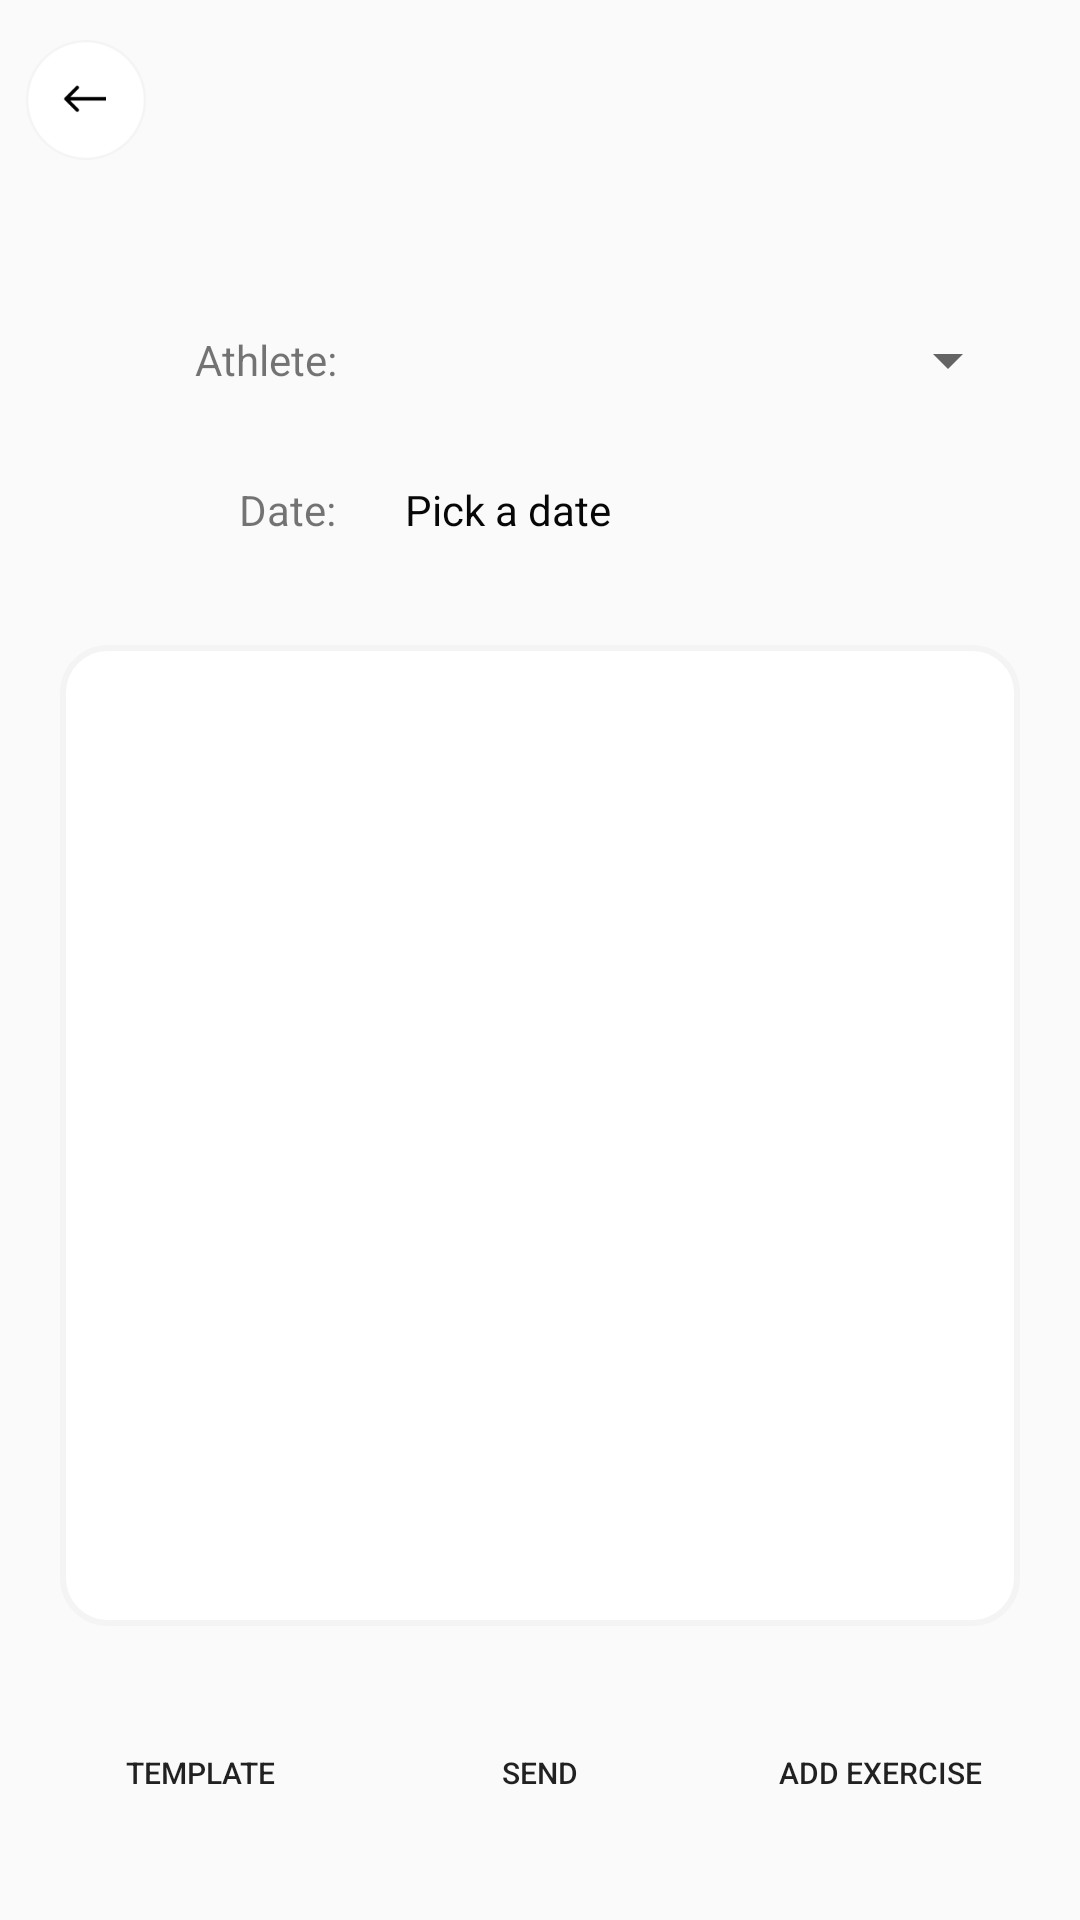

Icon bounding boxes for this 1080×1920 phone screenshot, format (x1,y1,x2,y2):
bakcarrow: (64,85,106,112)
